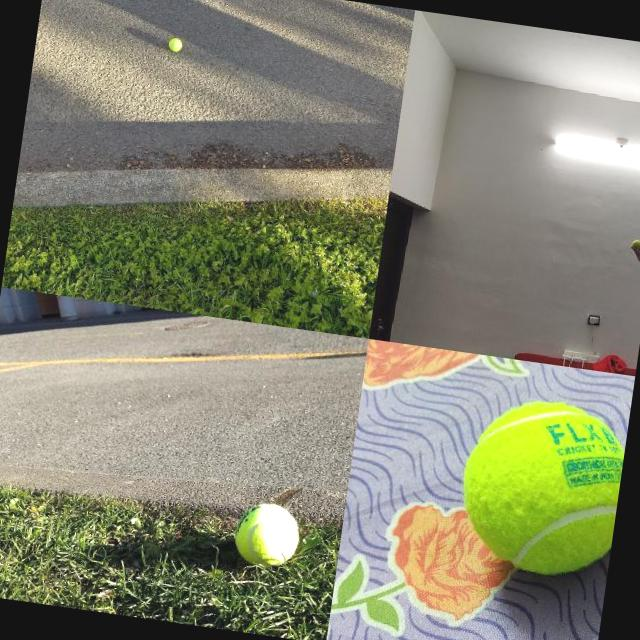Tennis Ball: (451, 390, 629, 582), (230, 498, 304, 572), (167, 36, 183, 52), (631, 239, 640, 250)
